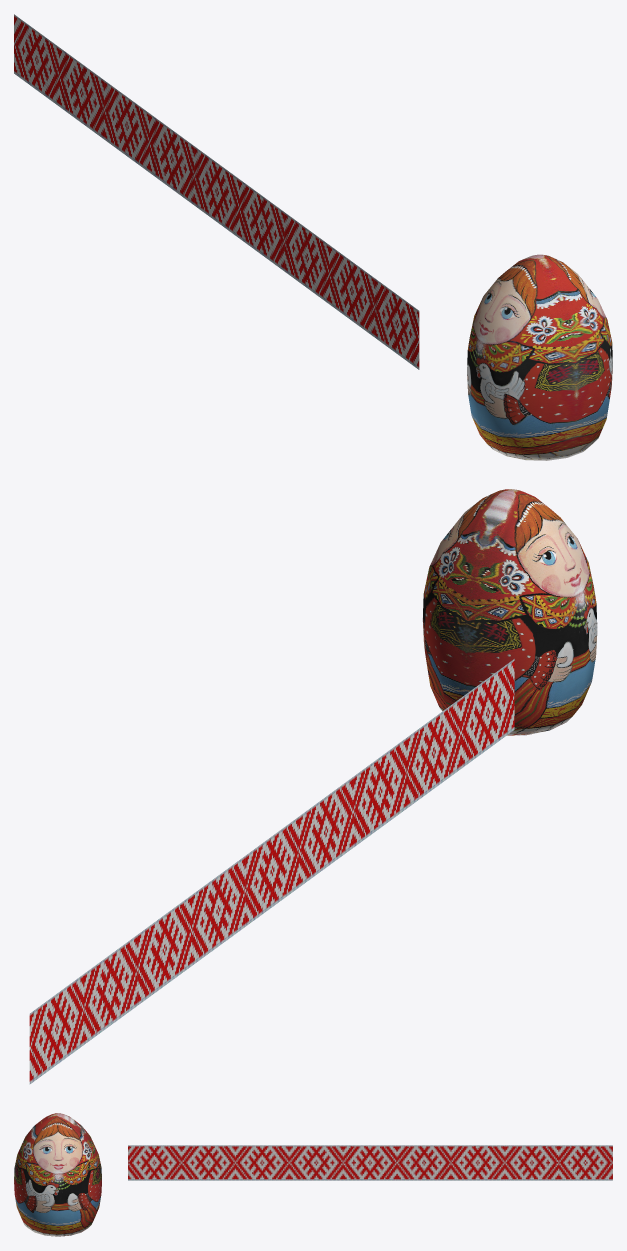
3 views of the same model, one above another, from view 1: azimuth 30°, elevation 25°; view 2: azimuth 150°, elevation 25°; view 3: azimuth 270°, elevation 25° (orthographic). The views are drawn at different scales.
Parts seen in each view (by area): view 1: Cylinder.002, Plane.009; view 2: Plane.009, Cylinder.002; view 3: Plane.009, Cylinder.002.
Boxes of the visible parts, left/top/right/bottom form: Cylinder.002: left=467, top=254, right=612, bottom=460; Plane.009: left=14, top=14, right=419, bottom=369; Plane.009: left=29, top=659, right=514, bottom=1084; Cylinder.002: left=422, top=489, right=597, bottom=735; Plane.009: left=128, top=1145, right=612, bottom=1180; Cylinder.002: left=14, top=1113, right=101, bottom=1236.
Bounding box in the file's own units: 1.05 × 1.43 × 7.14.
2 materials, 2 textured.
